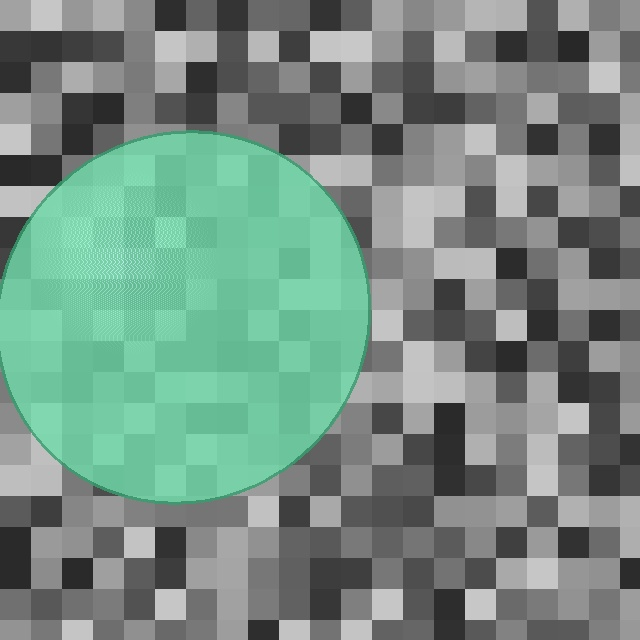lens: (0, 131, 369, 503)
